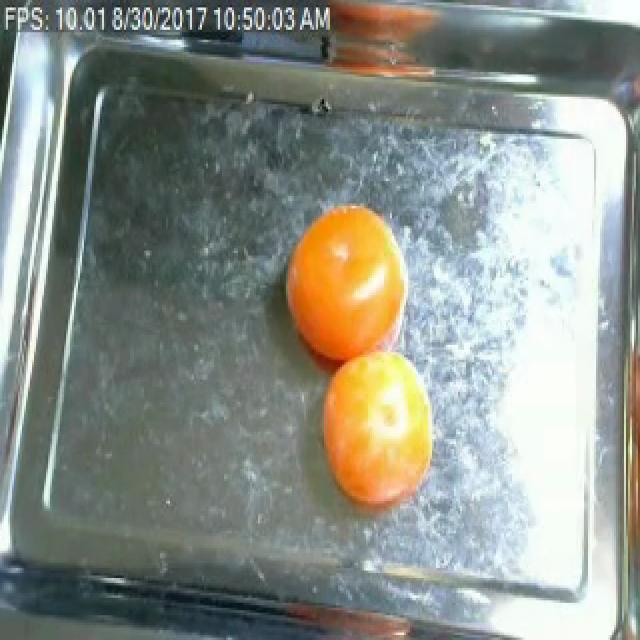Fruit: (268, 184, 424, 387), (304, 330, 450, 531), (310, 0, 454, 97)
